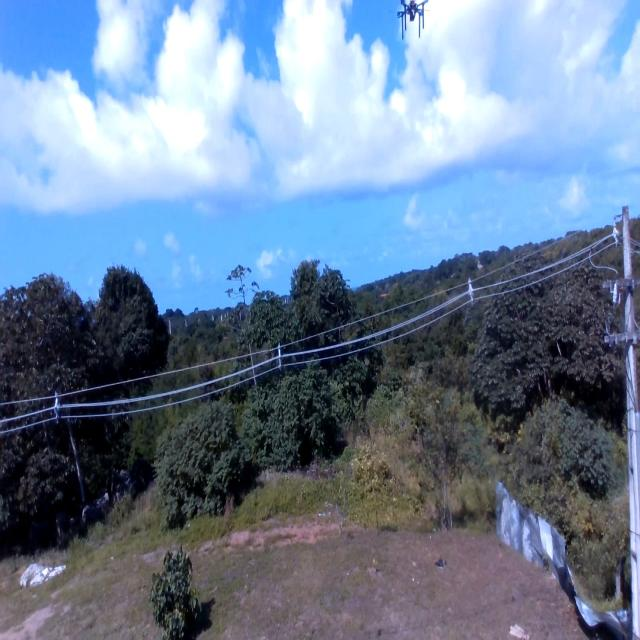-uav-: (391, 0, 433, 46)
